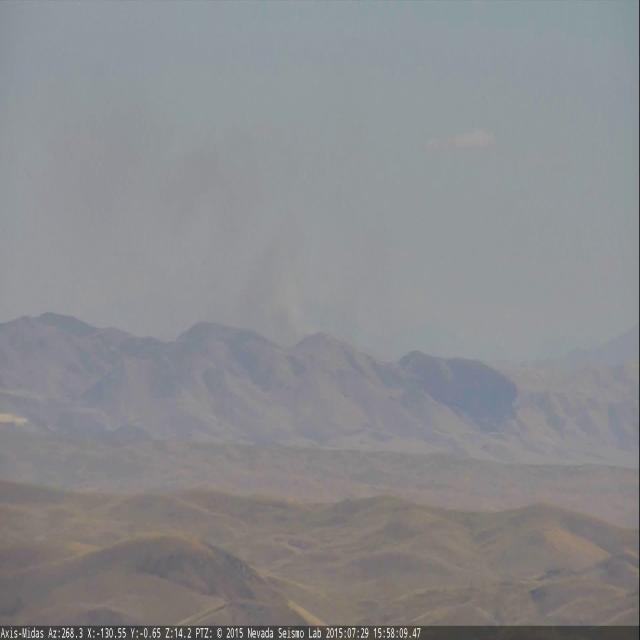smoke: (62, 112, 322, 342)
